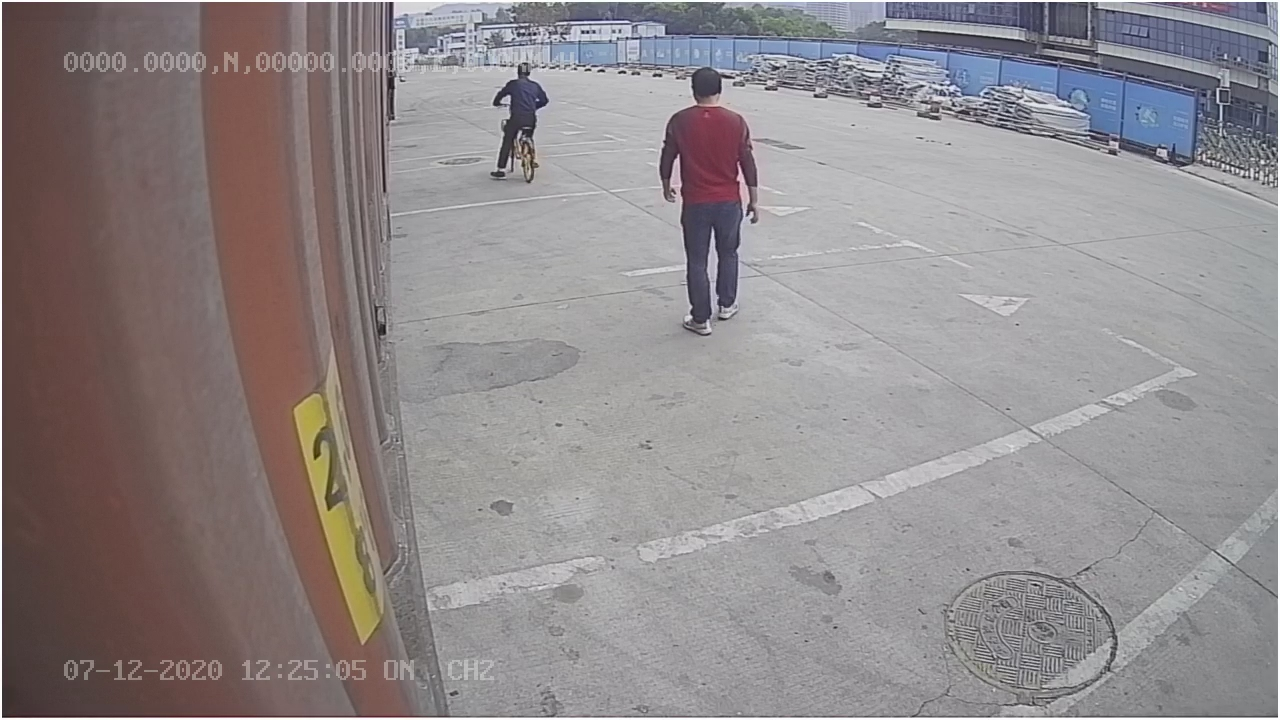person: (653, 62, 762, 336)
